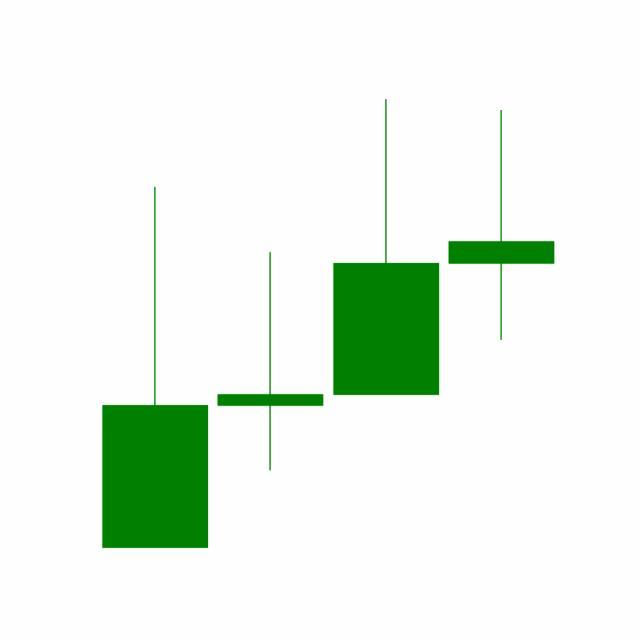Spinning Top: (444, 108, 560, 343)
